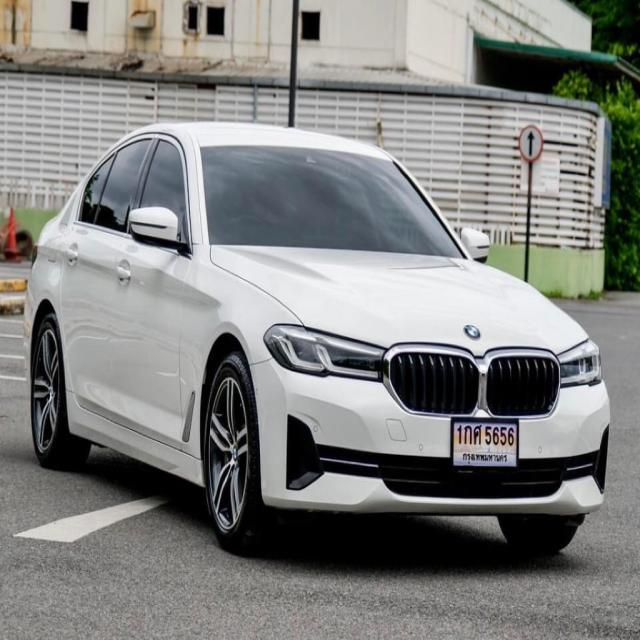license_plate: (451, 419, 516, 466), (455, 422, 517, 464)
